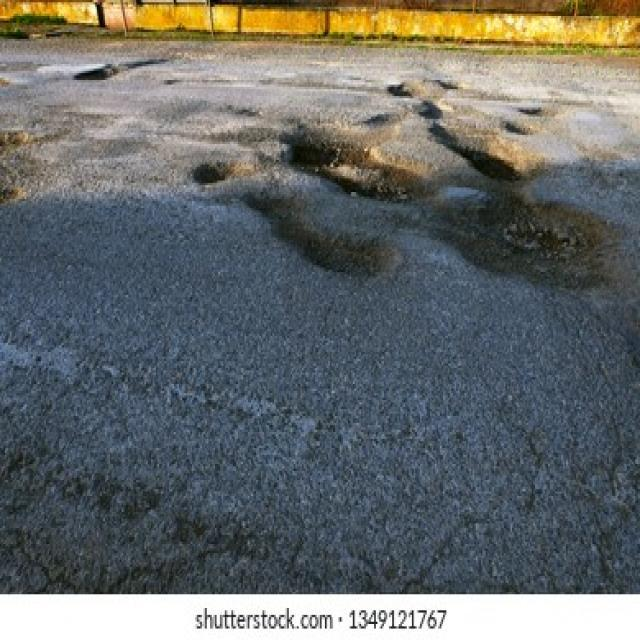Pothole: (442, 194, 626, 302), (240, 185, 400, 281), (277, 123, 435, 206), (430, 121, 530, 185), (195, 157, 258, 185), (0, 158, 28, 212), (0, 126, 30, 158), (504, 121, 542, 140), (418, 98, 445, 121), (387, 82, 415, 99), (518, 108, 556, 119), (433, 77, 458, 91)
